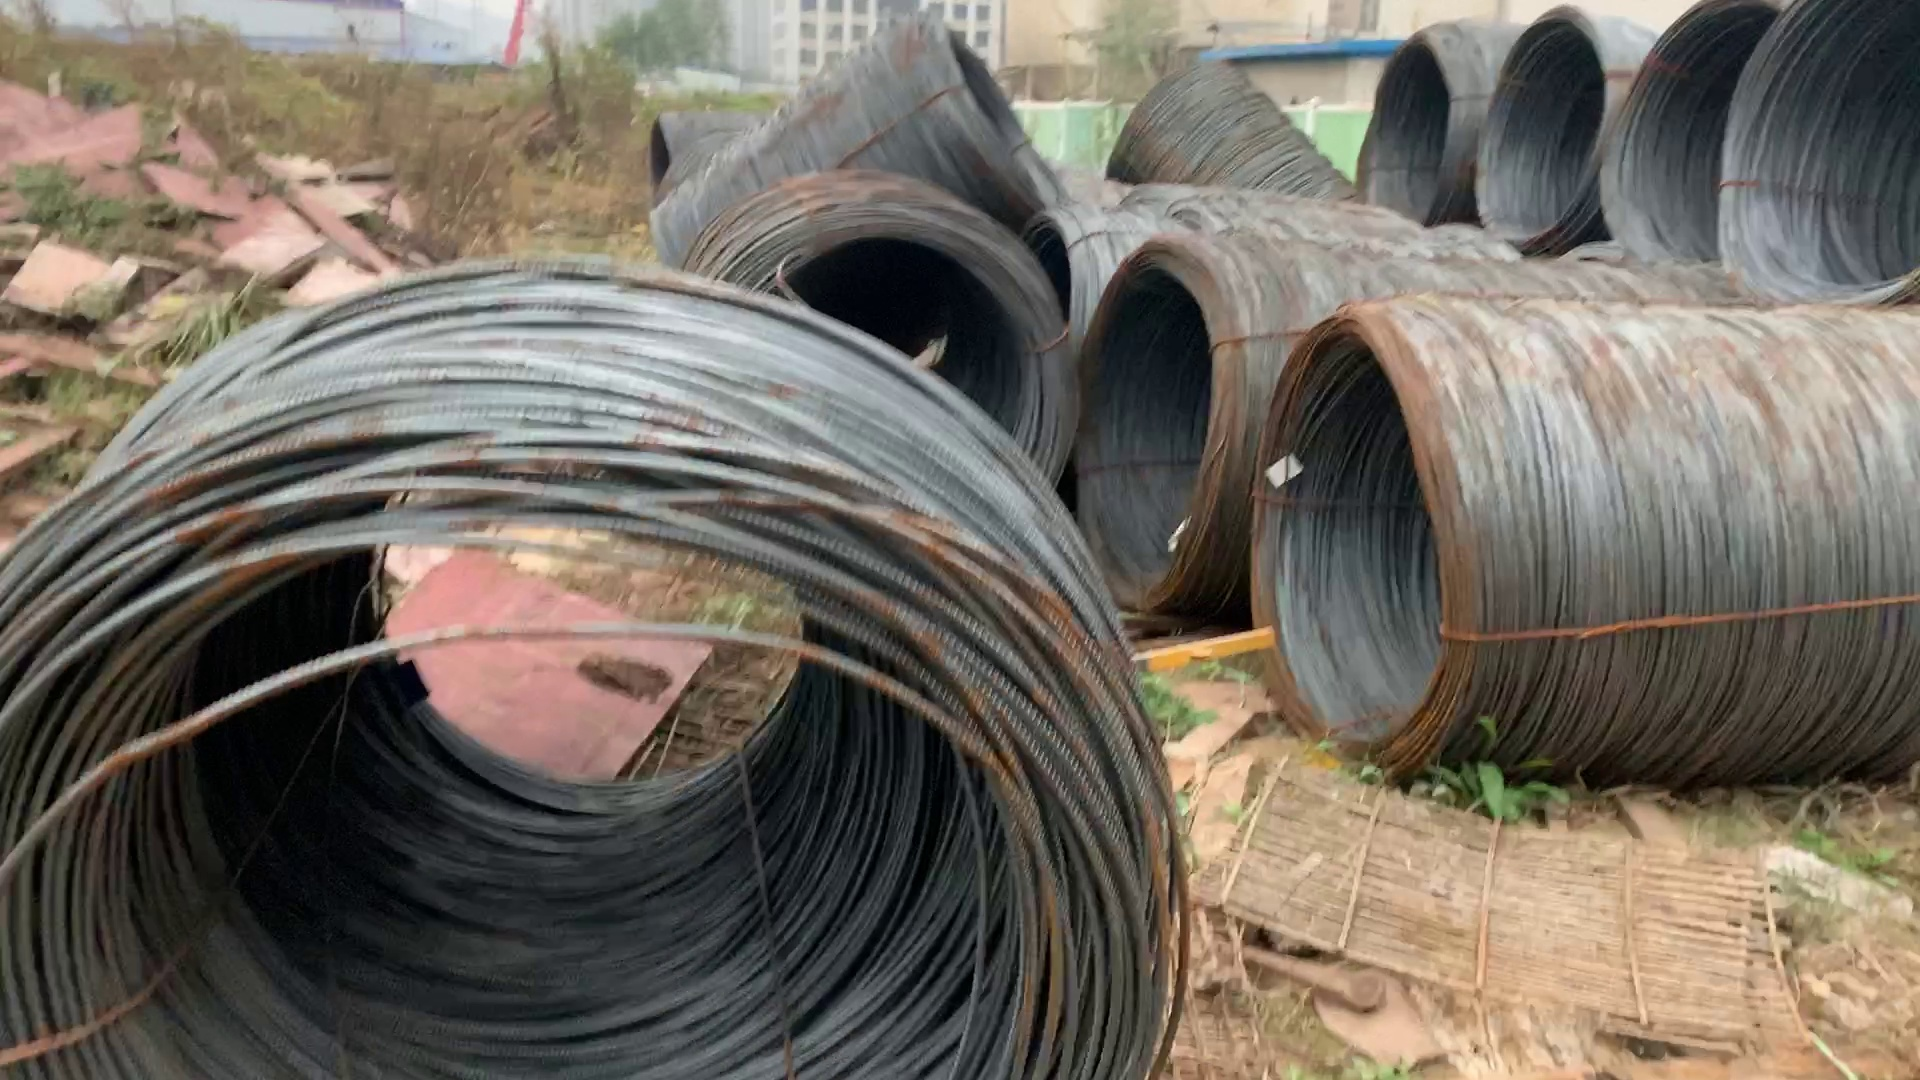coil: (24, 438, 1174, 1080), (713, 216, 1073, 513), (1251, 320, 1487, 766), (1077, 247, 1246, 603), (1742, 1, 1913, 316), (913, 16, 1079, 266), (1615, 3, 1731, 272), (1482, 13, 1593, 249), (1364, 29, 1465, 232), (632, 109, 690, 243)
